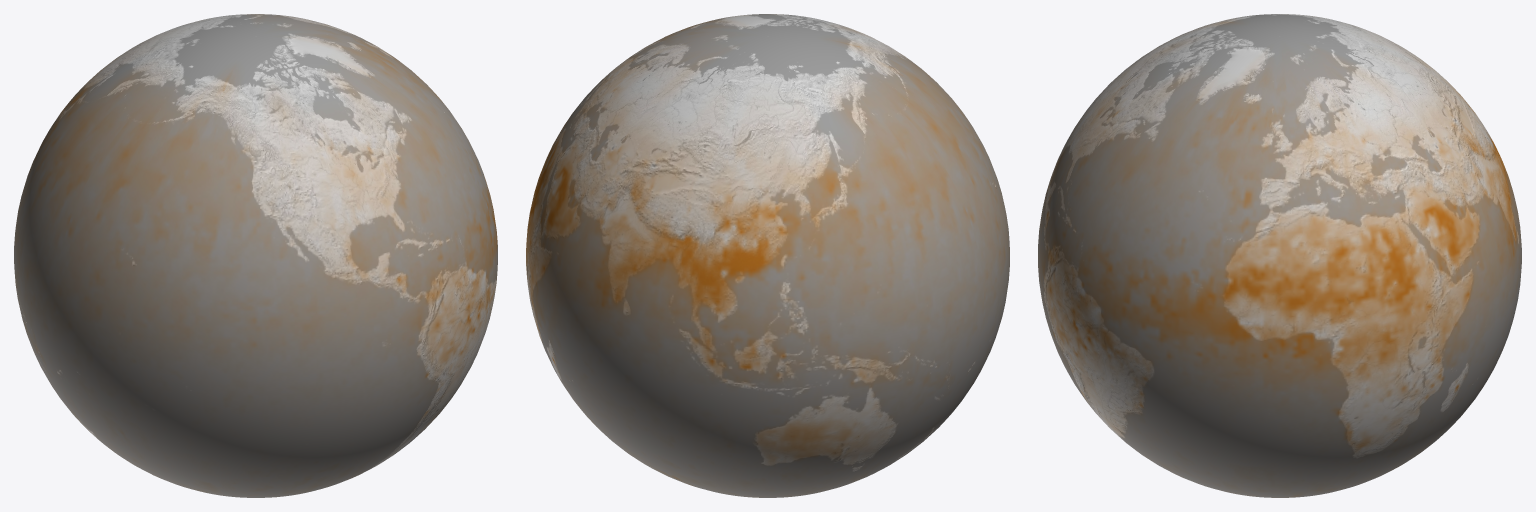
File: CCI-aerosol_flat_wrapped.glb
The picture shows the model from 3 angles, left to right: view 1: azimuth 30°, elevation 25°; view 2: azimuth 150°, elevation 25°; view 3: azimuth 270°, elevation 25°; orthographic projection.
Parts seen in each view (by area): view 1: Sphere; view 2: Sphere; view 3: Sphere.
Boxes of the visible parts, bbox=[...] form: Sphere: bbox=[14, 14, 497, 497]; Sphere: bbox=[526, 14, 1009, 497]; Sphere: bbox=[1038, 14, 1521, 497].
Size of the model in its own units: 3.82 by 3.82 by 3.81.
1 material, 1 textured.
